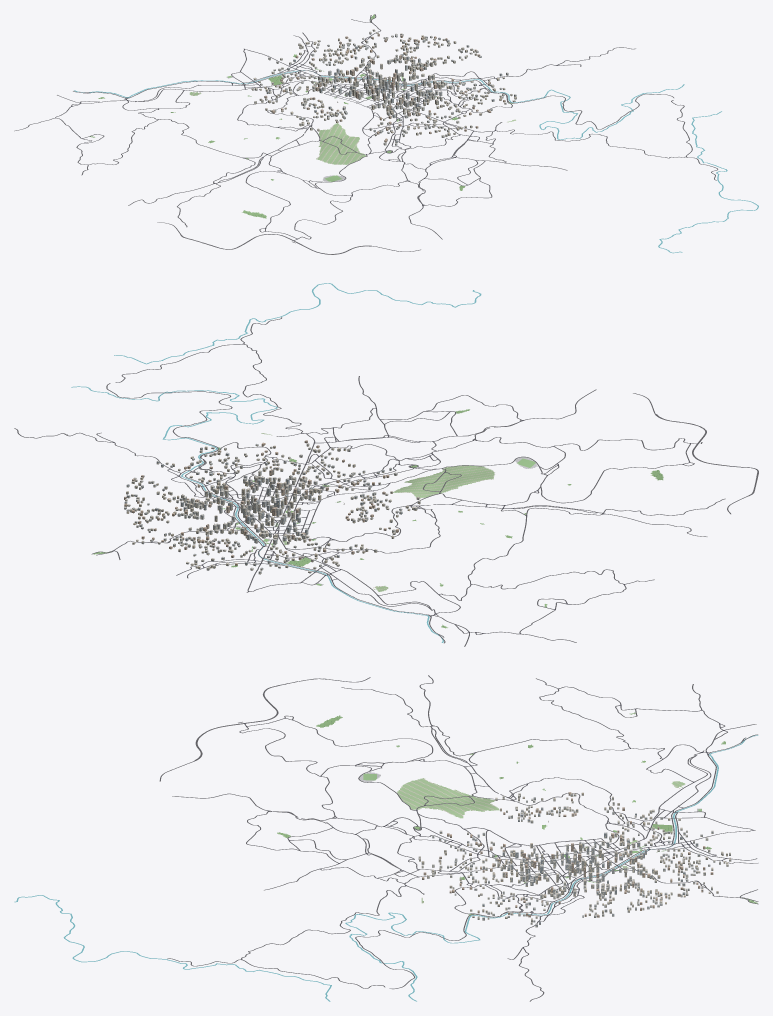
File: mundo-cidade.glb
3 views of the same model, one above another, from view 1: azimuth 30°, elevation 25°; view 2: azimuth 150°, elevation 25°; view 3: azimuth 270°, elevation 25° (orthographic). The views are drawn at different scales.
Parts seen in each view (by area): view 1: roads, Predios, ground; view 2: roads, Predios, ground; view 3: roads, Predios, ground.
Part boxes in pixels (x1=…): roads: x1=14, y1=14, x2=718, y2=254; Predios: x1=251, y1=29, x2=516, y2=145; ground: x1=74, y1=14, x2=758, y2=253; roads: x1=14, y1=317, x2=758, y2=646; Predios: x1=124, y1=440, x2=420, y2=574; ground: x1=71, y1=283, x2=663, y2=642; roads: x1=159, y1=675, x2=758, y2=1001; Predios: x1=418, y1=792, x2=731, y2=927; ground: x1=14, y1=712, x2=758, y2=1001.
Bounding box in the file's own units: 5893 × 139 × 5871.
5 materials, 2 textured.
